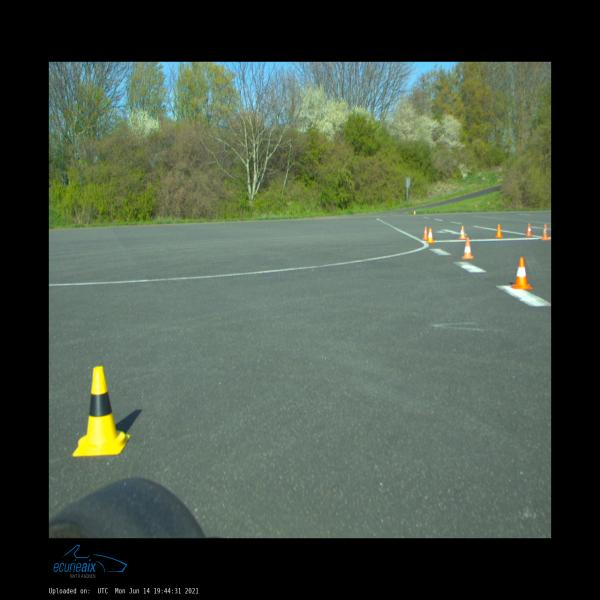orange_cone: (511, 257, 533, 289), (462, 238, 474, 259), (542, 225, 550, 240), (495, 224, 503, 238), (427, 228, 434, 243), (525, 223, 533, 236), (459, 226, 466, 239), (422, 226, 428, 240)
yellow_cone: (72, 366, 130, 457)
